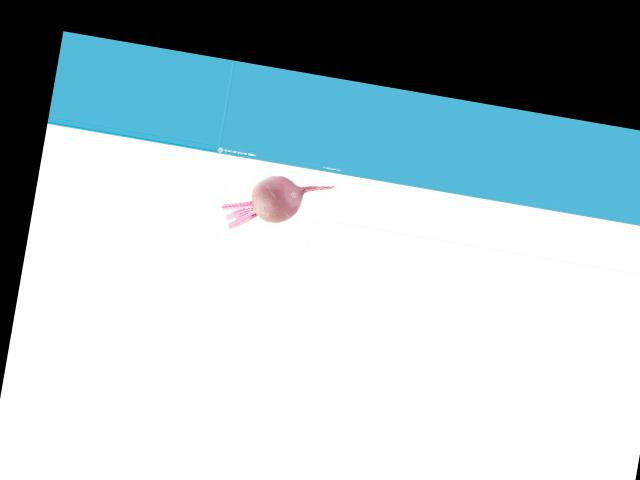beet: (219, 167, 333, 243)
